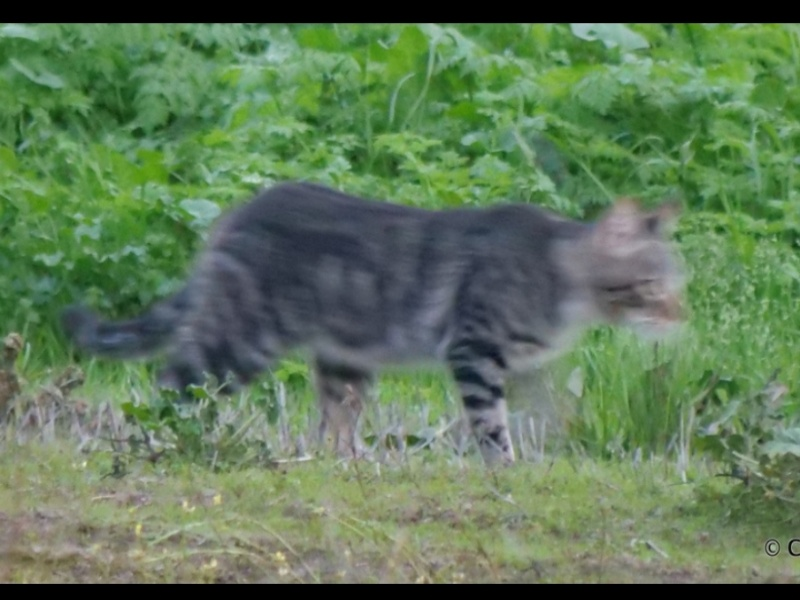cat: (58, 179, 703, 468)
